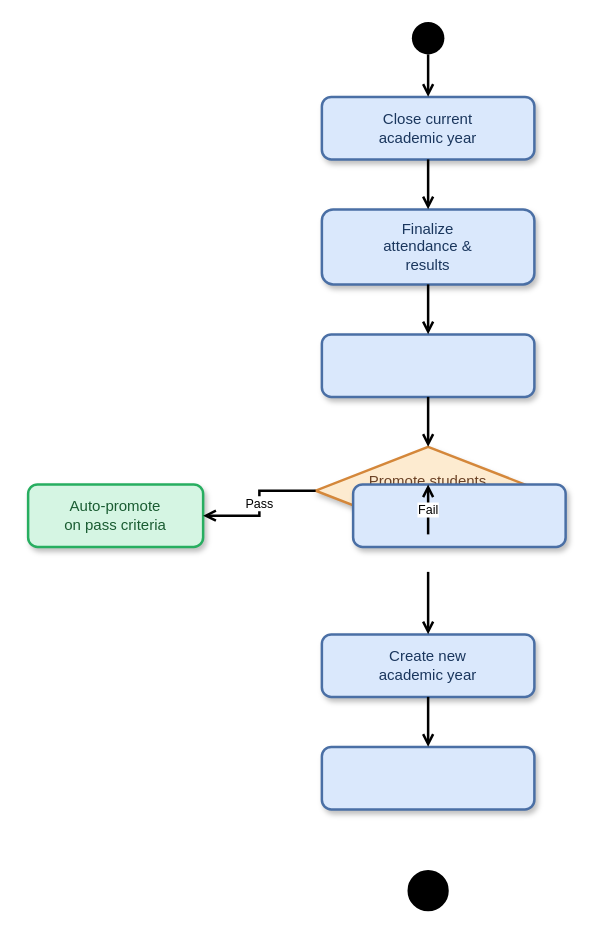
The diagram is 595 pixels wide and 933 high, and some of its shapes have lost their labels. Each missing label, with the centre of its shape:
"Archive year data" belongs at pixel 428 367.
"Manually assign repeating students" belongs at pixel 460 517.
"Set as active year" belongs at pixel 428 779.
